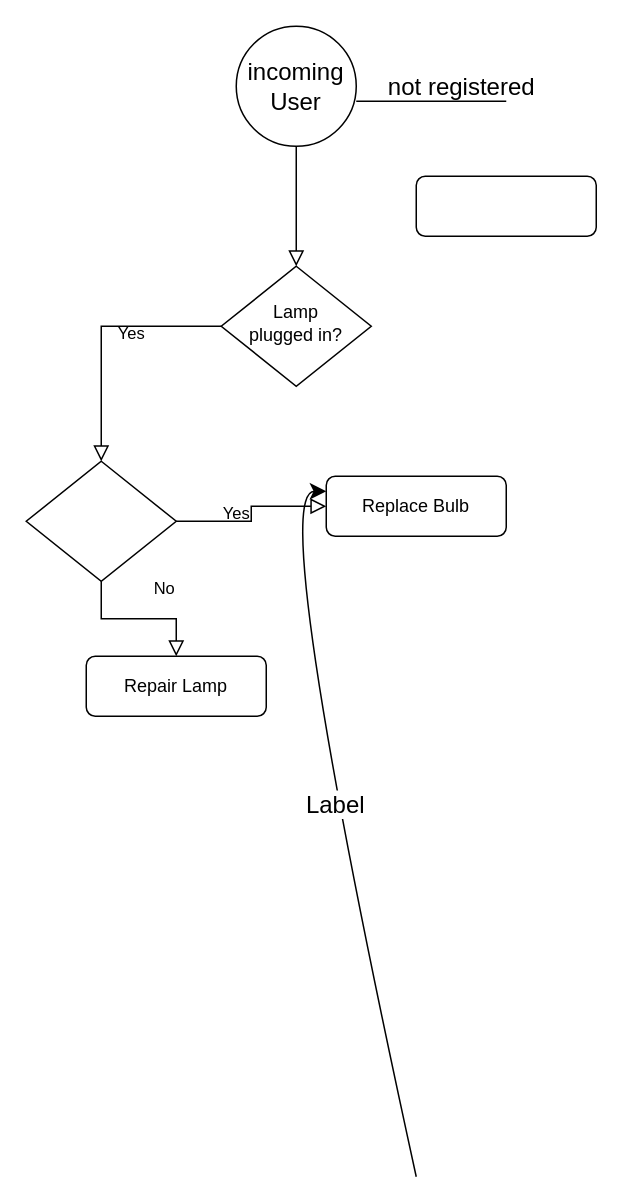
Some shapes in this 623 by 1203 pixel diagram are drawn without their labels. The shapes that lost their labels are listed below. From the top down, each one's centre as x and y in pixels, then its label:
At point 505,205: "Plug in lamp".
At point 100,520: "Bulb burned out?".
